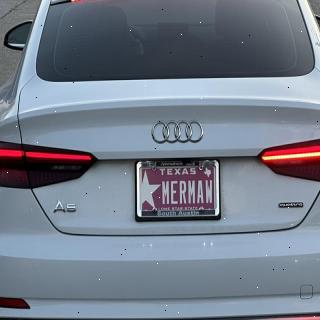license: (135, 160, 222, 223)
